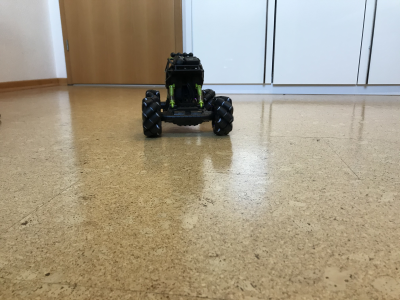remote control car: (138, 48, 238, 139)
